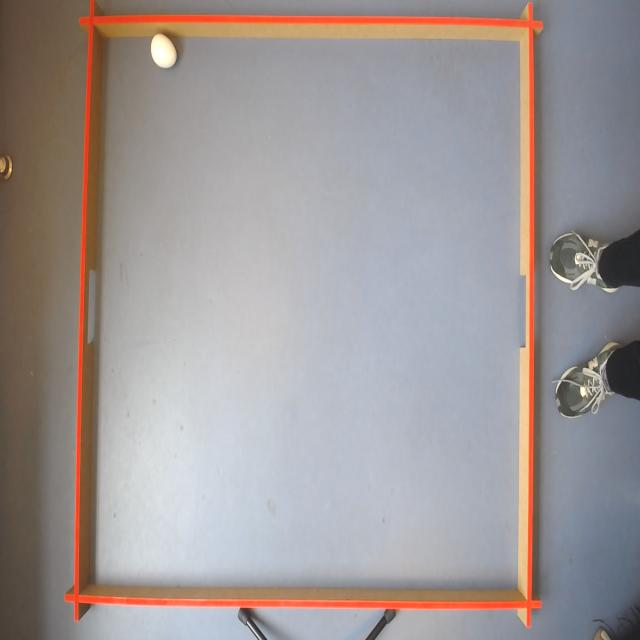corner: (516, 582, 543, 628), (64, 574, 88, 623), (518, 1, 544, 46), (80, 1, 103, 37)
